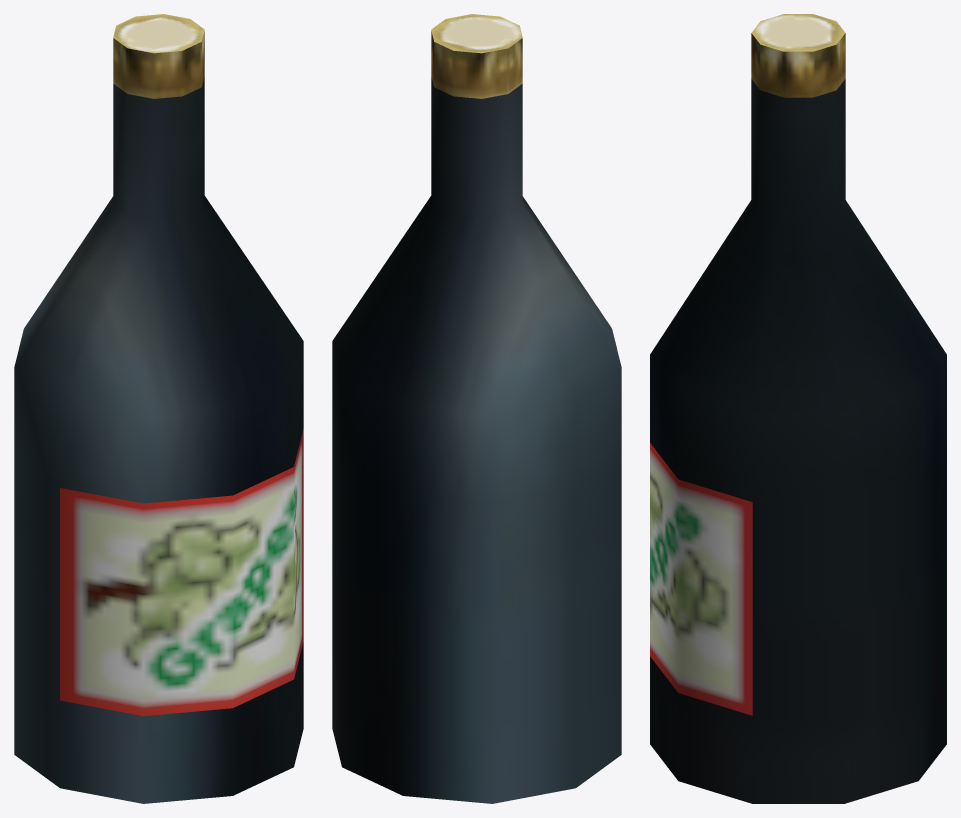
Rendered from giftgoods082a.fbx.
3 renders of one model, left to right at view 1: azimuth 30°, elevation 25°; view 2: azimuth 150°, elevation 25°; view 3: azimuth 270°, elevation 25°, orthographic.
Parts seen in each view (by area): view 1: giftgoods082a; view 2: giftgoods082a; view 3: giftgoods082a.
Part boxes in pixels (x1,y1,x2,y2): giftgoods082a: (14, 14, 303, 803); giftgoods082a: (332, 14, 621, 803); giftgoods082a: (650, 14, 946, 803).
Bounding box in the file's own units: 0.1193 × 0.3317 × 0.1255.
